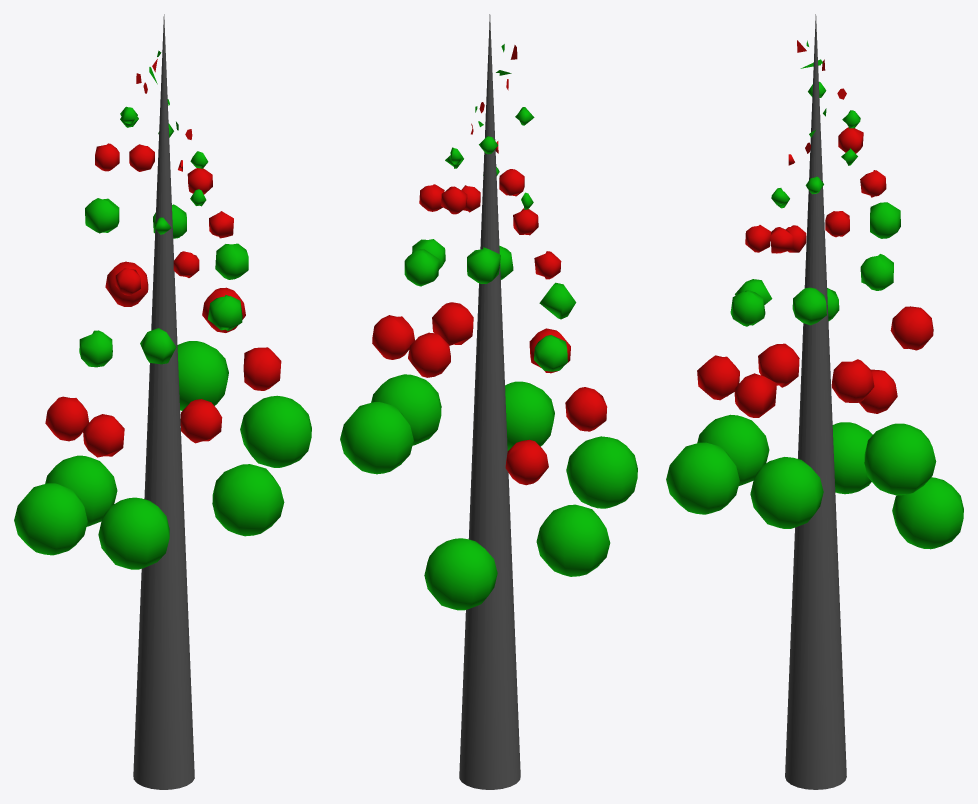
The model's file is NorthPoleTree.fbx.
3 renders of one model, left to right at view 1: azimuth 30°, elevation 25°; view 2: azimuth 150°, elevation 25°; view 3: azimuth 270°, elevation 25°, orthographic.
Visible parts, largest first — view 1: polySurface1; view 2: polySurface1; view 3: polySurface1.
Part boxes in pixels (left/top/right/bottom): polySurface1: left=14, top=14, right=311, bottom=789; polySurface1: left=340, top=14, right=637, bottom=789; polySurface1: left=666, top=14, right=963, bottom=789.
Size of the model in its own units: 1324 by 3757 by 1329.
